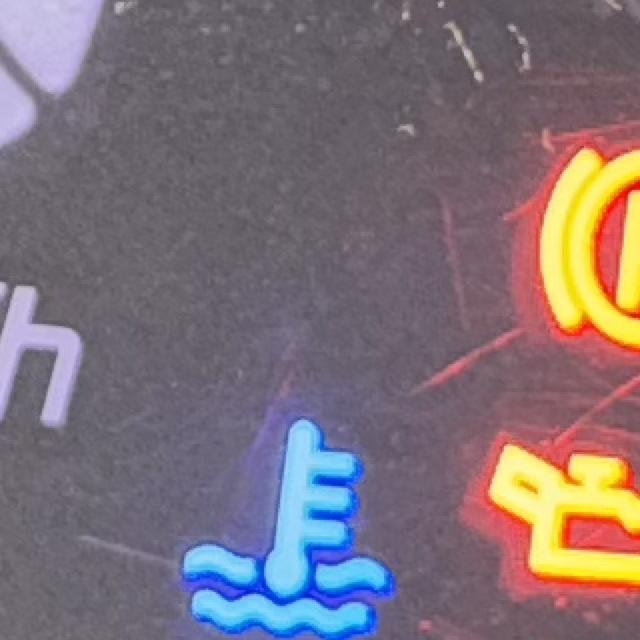High Engine Temperature: (183, 419, 398, 640)
Low Oil Pressure Issue: (484, 436, 640, 591)
